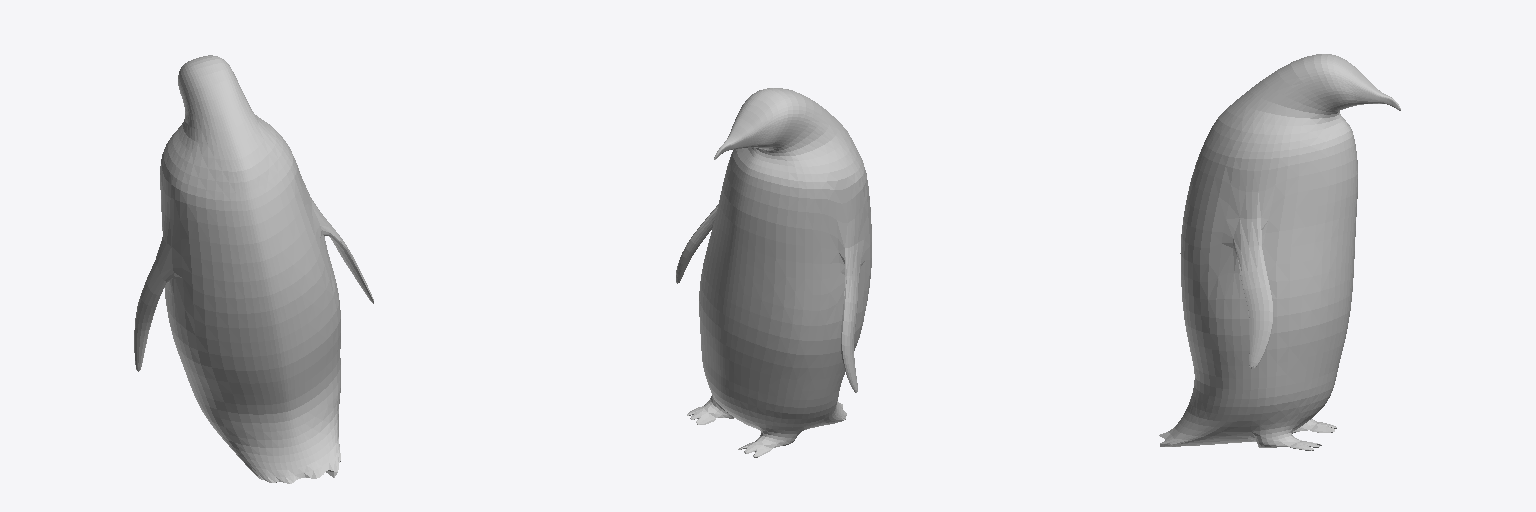
File: penguin5.obj
3 views of the same model, side by side, from view 1: azimuth 30°, elevation 25°; view 2: azimuth 150°, elevation 25°; view 3: azimuth 270°, elevation 25° (orthographic).
Visible parts, largest first — view 1: Penguin_Cylinder.001; view 2: Penguin_Cylinder.001; view 3: Penguin_Cylinder.001.
Boxes of the visible parts, <box> form: Penguin_Cylinder.001: <box>134,55,373,483</box>; Penguin_Cylinder.001: <box>676,88,871,457</box>; Penguin_Cylinder.001: <box>1159,54,1400,450</box>.
Size of the model in its own units: 121 by 207 by 121.